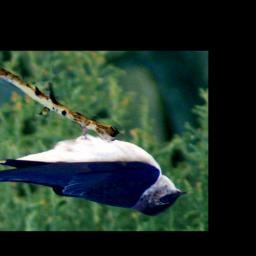Swallow: (0, 118, 191, 217)
